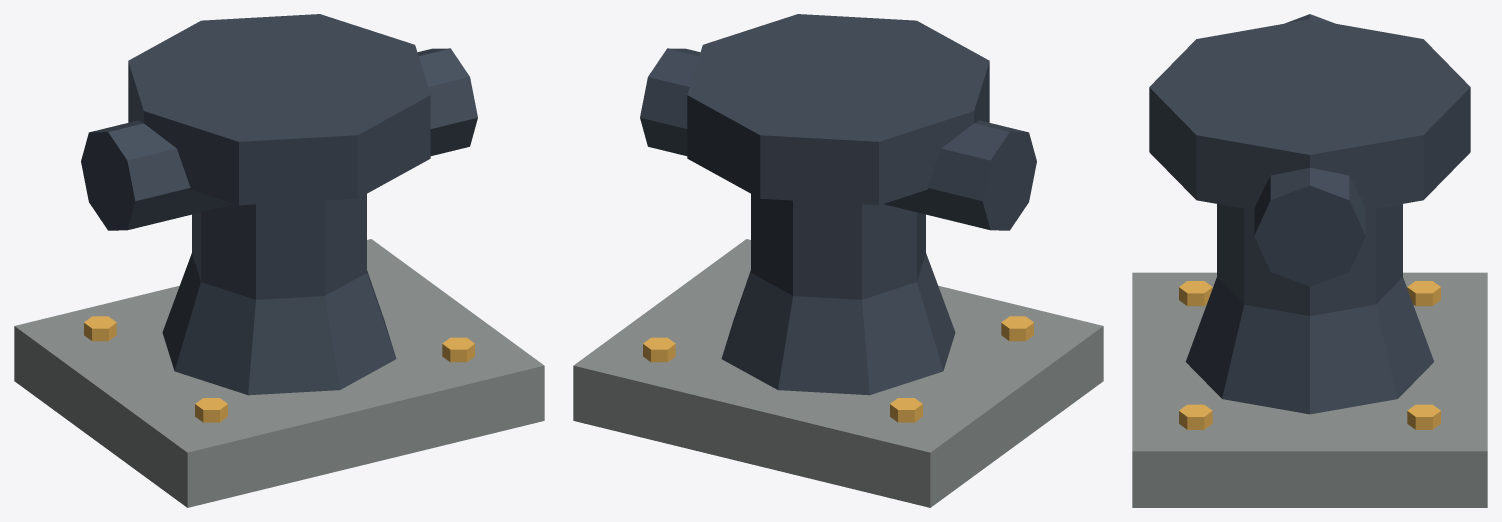
The model's file is prop_dock_bollard.glb.
3 renders of one model, left to right at view 1: azimuth 30°, elevation 25°; view 2: azimuth 150°, elevation 25°; view 3: azimuth 270°, elevation 25°, orthographic. The views are drawn at different scales.
Parts seen in each view (by area): view 1: prop_dock_bollard__Bollard slab, prop_dock_bollard__Bollard cap, prop_dock_bollard__Bollard flared foot, prop_dock_bollard__Bollard stem, prop_dock_bollard__Bollard cross horn, prop_dock_bollard__Bollard mounting bolt 0.173 -0.135, prop_dock_bollard__Bollard mounting bolt -0.173 0.135, prop_dock_bollard__Bollard mounting bolt -0.173 -0.135; view 2: prop_dock_bollard__Bollard slab, prop_dock_bollard__Bollard cap, prop_dock_bollard__Bollard flared foot, prop_dock_bollard__Bollard stem, prop_dock_bollard__Bollard cross horn, prop_dock_bollard__Bollard mounting bolt 0.173 0.135, prop_dock_bollard__Bollard mounting bolt -0.173 -0.135, prop_dock_bollard__Bollard mounting bolt -0.173 0.135; view 3: prop_dock_bollard__Bollard slab, prop_dock_bollard__Bollard cap, prop_dock_bollard__Bollard flared foot, prop_dock_bollard__Bollard stem, prop_dock_bollard__Bollard cross horn, prop_dock_bollard__Bollard mounting bolt 0.173 0.135, prop_dock_bollard__Bollard mounting bolt 0.173 -0.135, prop_dock_bollard__Bollard mounting bolt -0.173 0.135, prop_dock_bollard__Bollard mounting bolt -0.173 -0.135.
Boxes of the visible parts, bbox=[...] form: prop_dock_bollard__Bollard slab: bbox=[14, 239, 544, 507]; prop_dock_bollard__Bollard cap: bbox=[128, 14, 430, 205]; prop_dock_bollard__Bollard flared foot: bbox=[162, 253, 396, 395]; prop_dock_bollard__Bollard stem: bbox=[192, 194, 366, 299]; prop_dock_bollard__Bollard cross horn: bbox=[81, 48, 477, 230]; prop_dock_bollard__Bollard mounting bolt 0.173 -0.135: bbox=[442, 337, 474, 362]; prop_dock_bollard__Bollard mounting bolt -0.173 0.135: bbox=[84, 316, 116, 341]; prop_dock_bollard__Bollard mounting bolt -0.173 -0.135: bbox=[195, 398, 227, 422]; prop_dock_bollard__Bollard slab: bbox=[573, 239, 1103, 507]; prop_dock_bollard__Bollard cap: bbox=[687, 14, 989, 205]; prop_dock_bollard__Bollard flared foot: bbox=[721, 253, 955, 395]; prop_dock_bollard__Bollard stem: bbox=[751, 194, 925, 299]; prop_dock_bollard__Bollard cross horn: bbox=[640, 48, 1036, 230]; prop_dock_bollard__Bollard mounting bolt 0.173 0.135: bbox=[643, 337, 675, 362]; prop_dock_bollard__Bollard mounting bolt -0.173 -0.135: bbox=[1001, 316, 1033, 341]; prop_dock_bollard__Bollard mounting bolt -0.173 0.135: bbox=[890, 398, 922, 422]; prop_dock_bollard__Bollard slab: bbox=[1132, 272, 1487, 507]; prop_dock_bollard__Bollard cap: bbox=[1149, 19, 1470, 210]; prop_dock_bollard__Bollard flared foot: bbox=[1185, 277, 1434, 414]; prop_dock_bollard__Bollard stem: bbox=[1217, 204, 1402, 315]; prop_dock_bollard__Bollard cross horn: bbox=[1254, 14, 1365, 286]; prop_dock_bollard__Bollard mounting bolt 0.173 0.135: bbox=[1407, 404, 1440, 429]; prop_dock_bollard__Bollard mounting bolt 0.173 -0.135: bbox=[1179, 404, 1212, 429]; prop_dock_bollard__Bollard mounting bolt -0.173 0.135: bbox=[1407, 281, 1440, 306]; prop_dock_bollard__Bollard mounting bolt -0.173 -0.135: bbox=[1179, 281, 1212, 306].
Bounding box in the file's own units: 0.5 × 0.4325 × 0.42.
